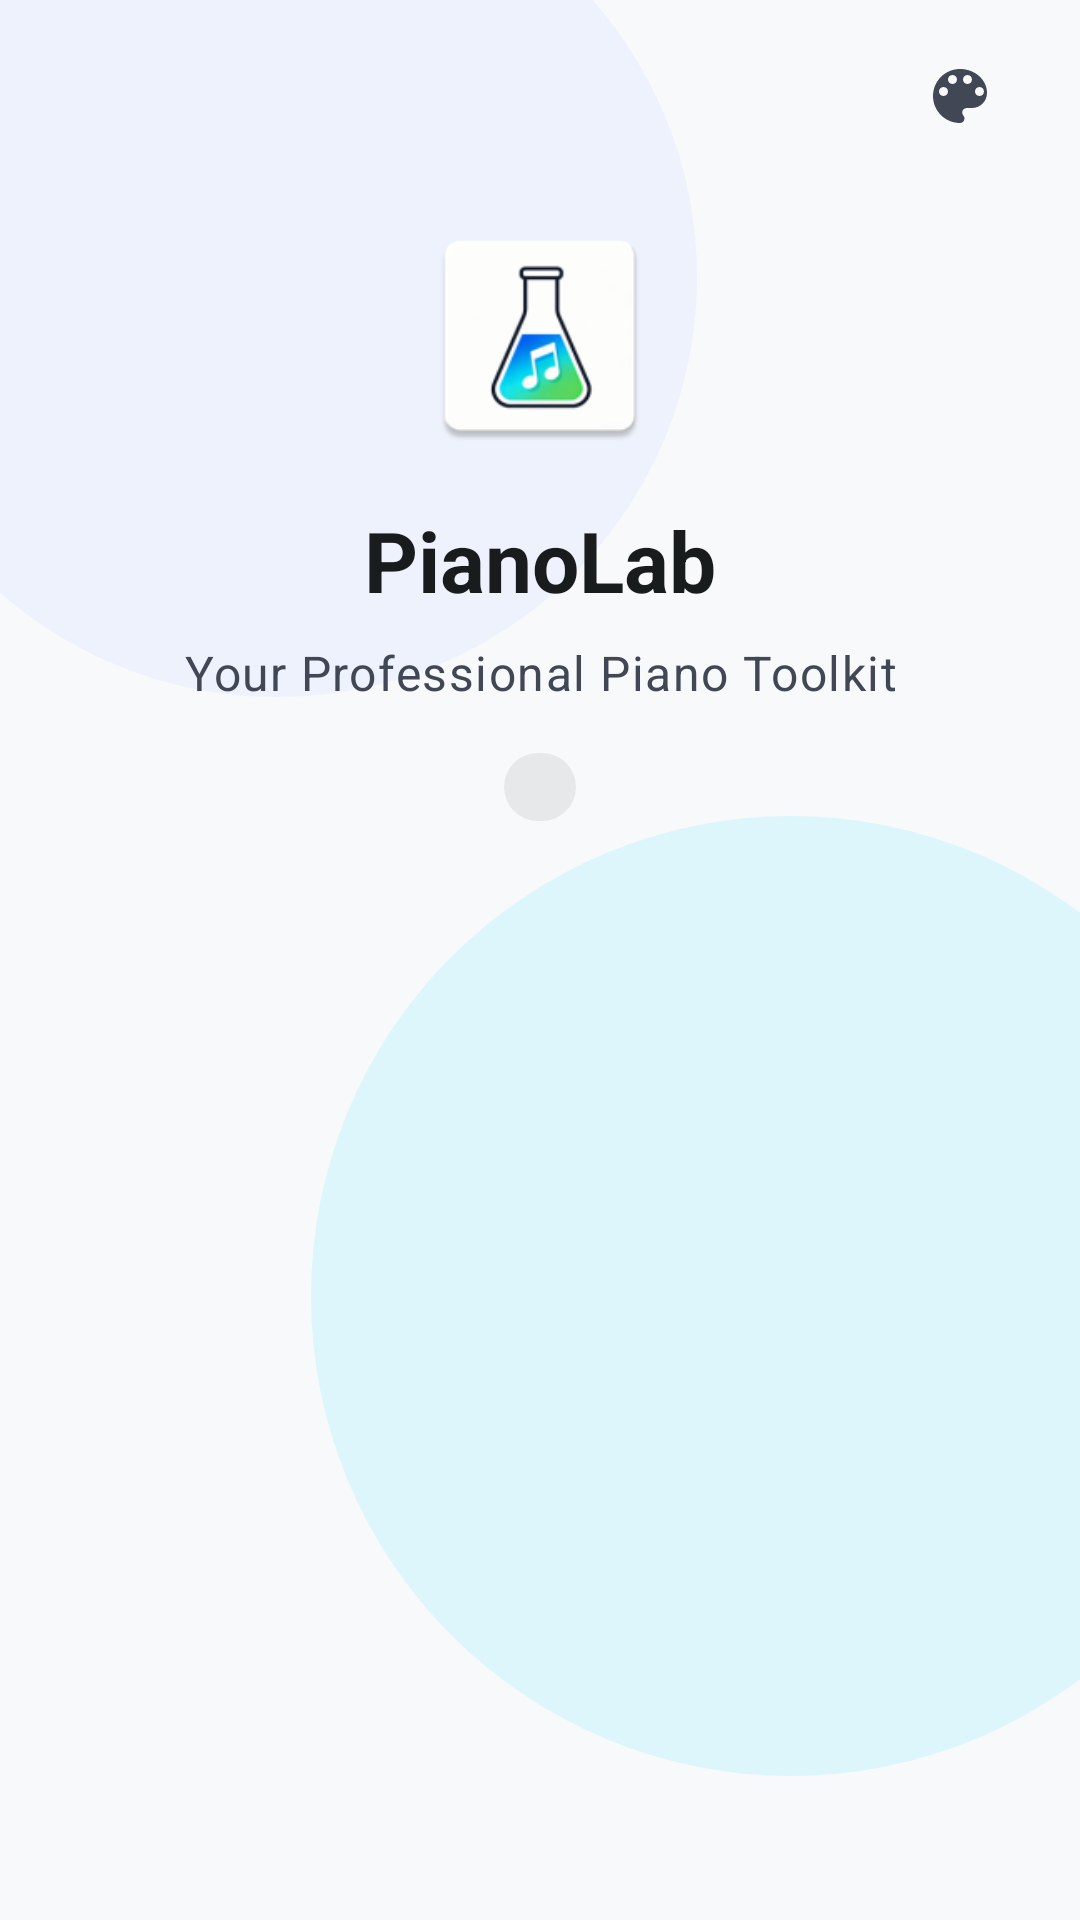

Icon bounding boxes for this 1080 x 1920 phone screenshot, format (x1, y1, x2, y2):
外观设置: (933, 69, 987, 123)
